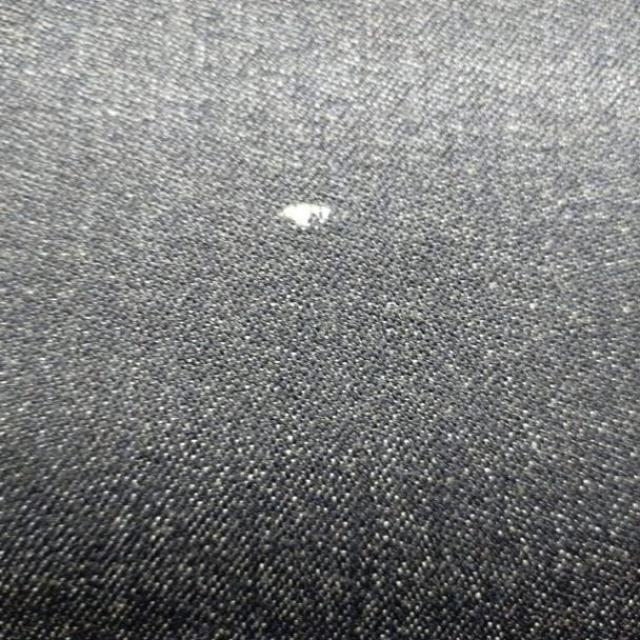Knot: (279, 203, 332, 227)
